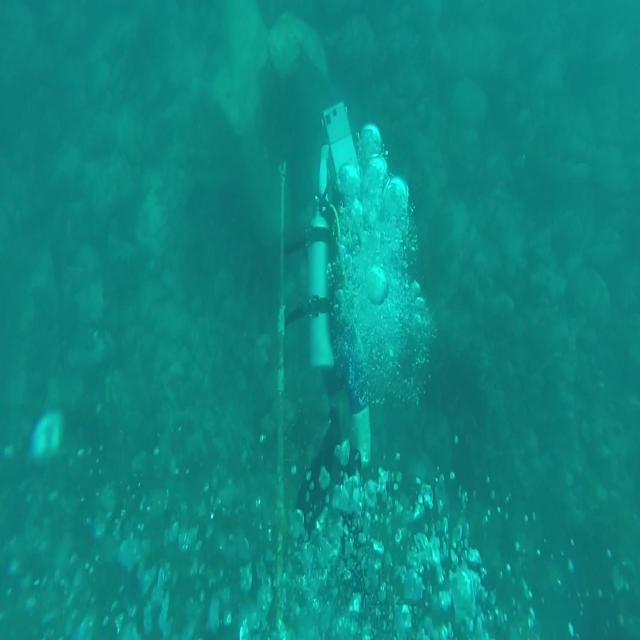human: (282, 101, 370, 542)
